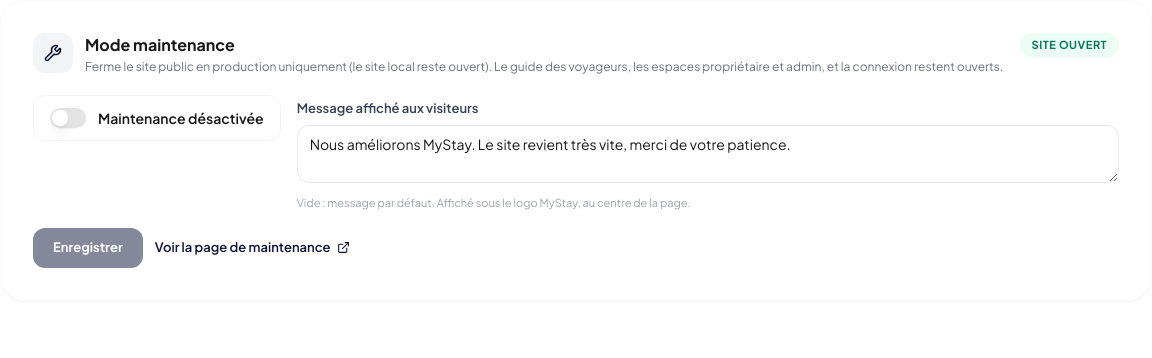
Test: 087 AC-01-01 — carte du cockpit admin › active la maintenance avec un message et l’enregistre
Expected: the text with test id "maintenance-status" reads "Site ouvert", [1032,38,1107,51]
Expected: the button "Enregistrer" is disabled, [33,228,143,268]
Click the switch named "Mettre le site public en maintenance".
click(68, 118)  # box [50,108,86,128]
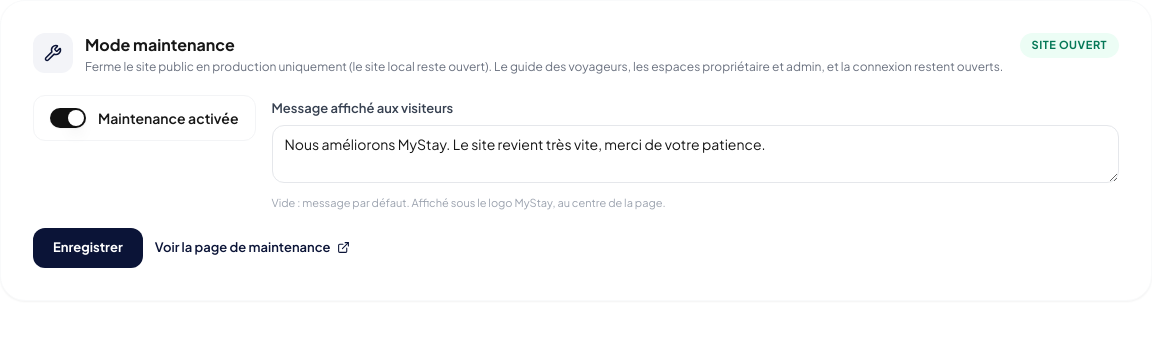
Replace the text in the text box labelled "Message affiché aux visiteurs" with "Retour à 18 h." at coordinates (695, 154), box [272,125,1119,183]
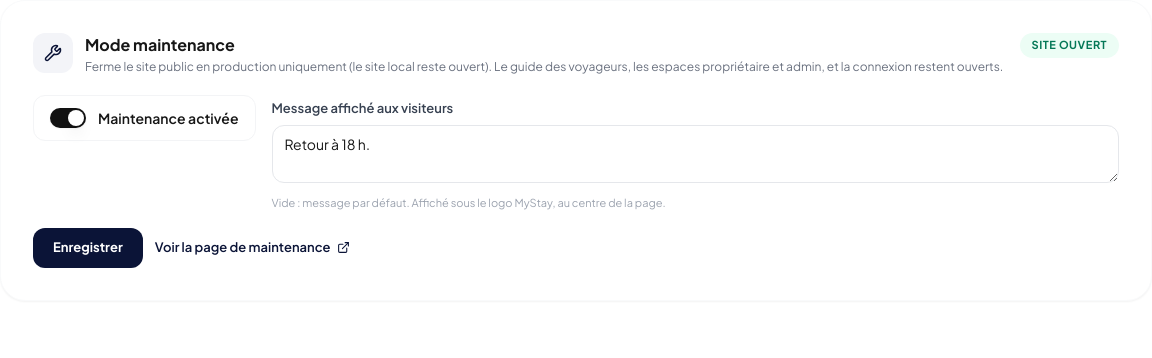
Click the button "Enregistrer".
click(88, 248)  # box [33,228,143,268]
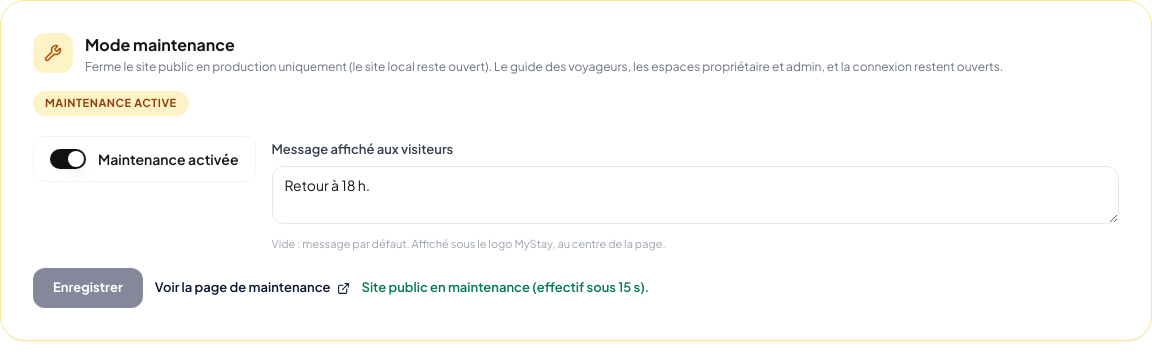
Expected: the text with test id "maintenance-status" reads "Maintenance active", [45,96,177,109]
Expected: the message shows "Site public en maintenance", [362,279,649,295]
